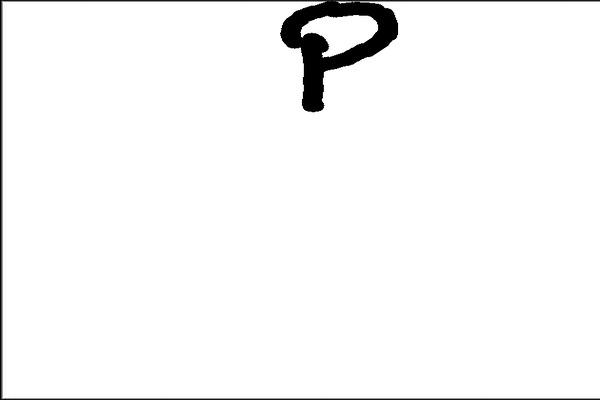P: (272, 0, 407, 119)
